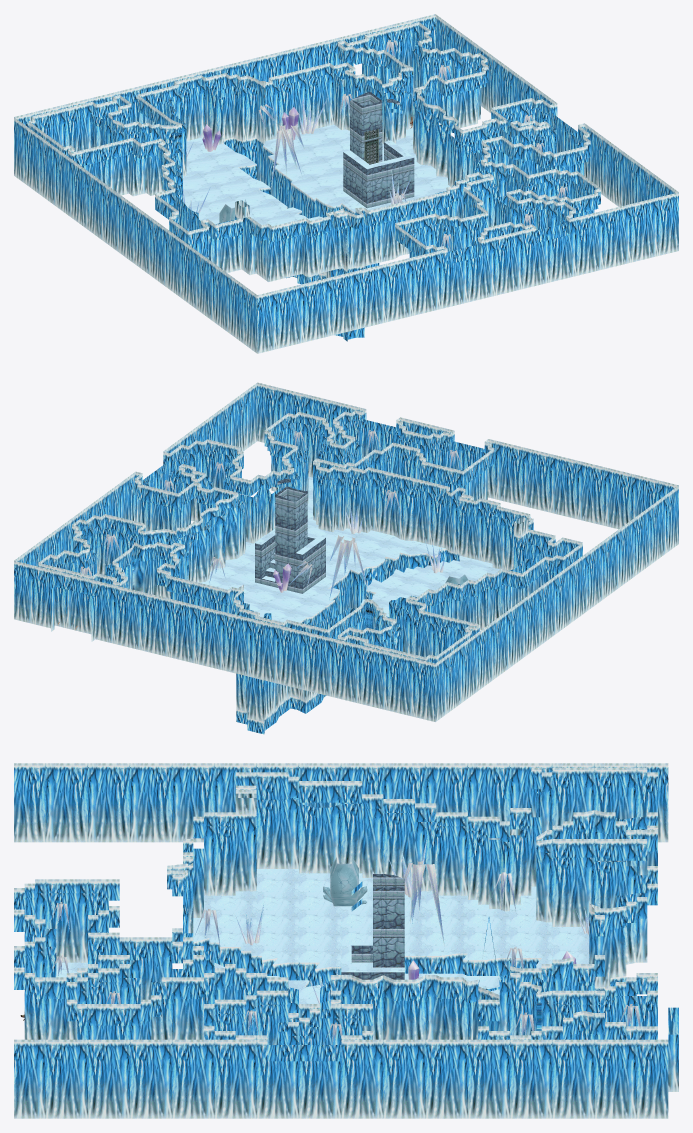
The model's file is map.gltf.
3 renders of one model, top to bottom at view 1: azimuth 30°, elevation 25°; view 2: azimuth 150°, elevation 25°; view 3: azimuth 270°, elevation 25°, orthographic. The views are drawn at different scales.
Bounding box in the file's own units: 62 × 24.25 × 63.
Materials: 16 (16 with a texture image).
